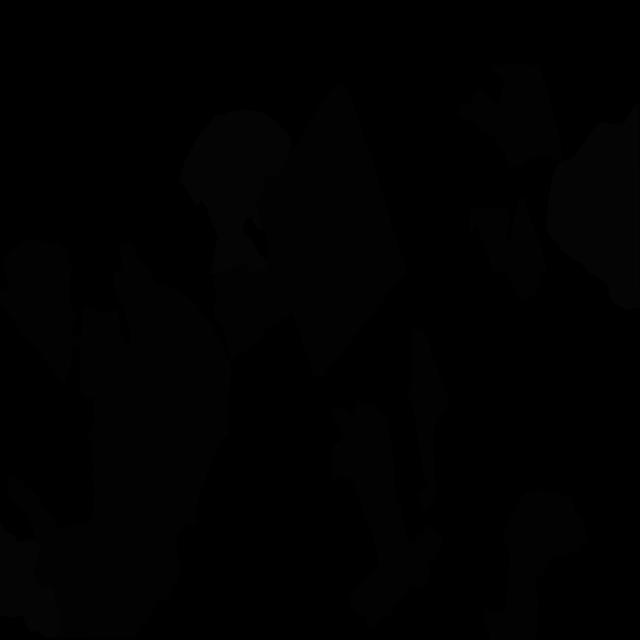cardboard: (0, 239, 232, 639), (256, 82, 406, 380), (332, 401, 444, 628), (484, 489, 589, 640), (460, 63, 562, 167), (212, 247, 291, 360), (468, 196, 547, 301), (406, 327, 450, 511)
soft_plastic: (546, 100, 640, 309), (179, 109, 292, 275), (0, 522, 60, 639)
